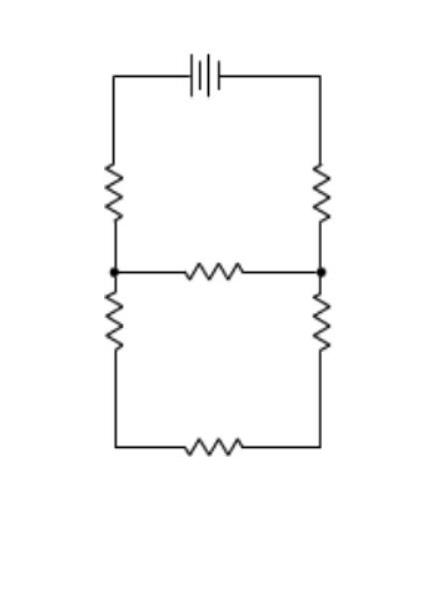resistor: (289, 141, 350, 240), (154, 417, 258, 467), (87, 268, 133, 362), (92, 139, 133, 244), (175, 250, 265, 284)
